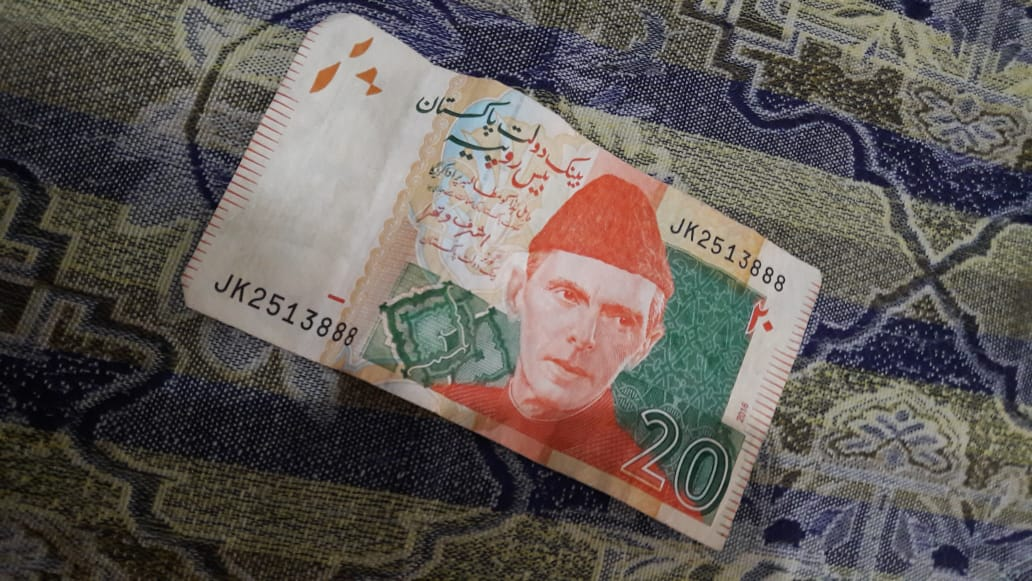20 rupee: (155, 9, 836, 560)
